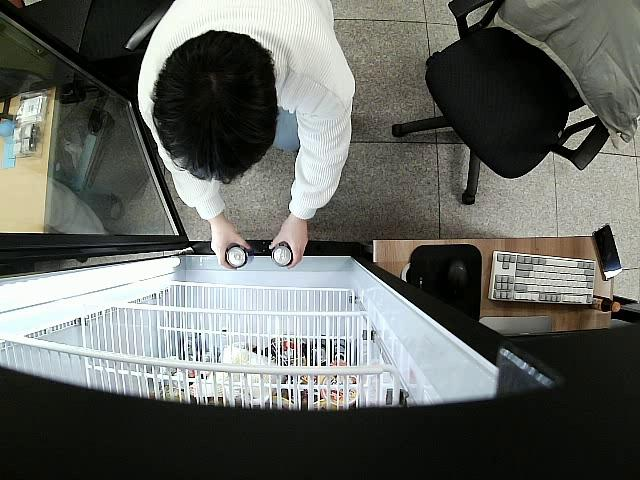00_hand: (209, 223, 250, 271), (267, 223, 309, 269)
14_welchsGrape: (225, 244, 250, 269), (271, 243, 292, 269)
